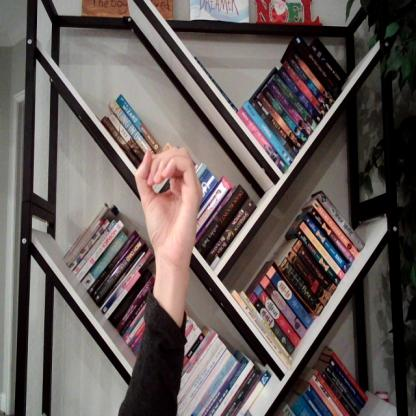zero: (135, 143, 200, 270)
